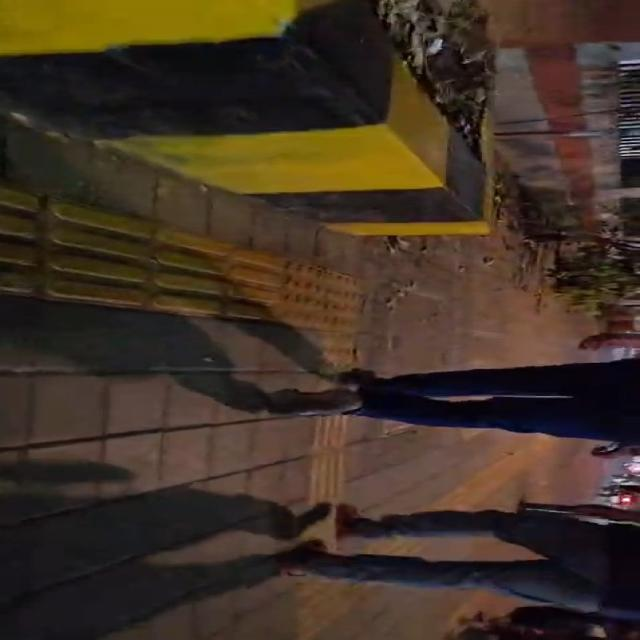obstacle: (3, 1, 494, 237), (276, 506, 639, 620), (268, 359, 639, 455), (580, 332, 639, 350)
